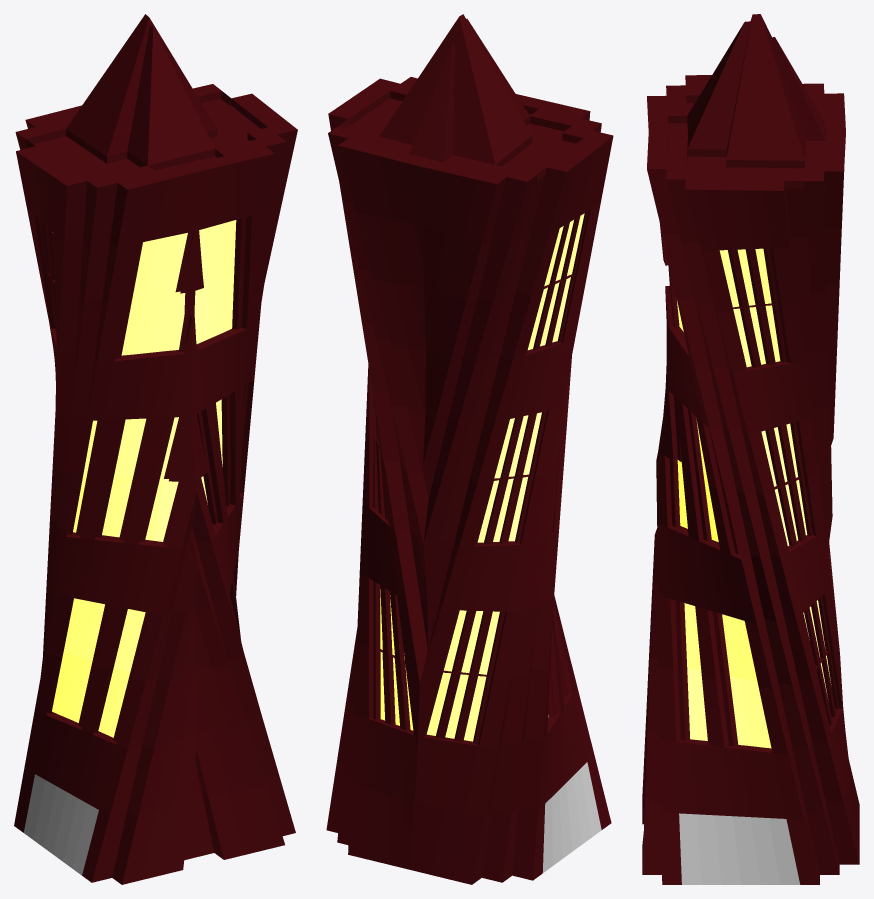
Rendered from westside_tower.fbx.
3 views of the same model, side by side, from view 1: azimuth 30°, elevation 25°; view 2: azimuth 150°, elevation 25°; view 3: azimuth 270°, elevation 25° (orthographic).
Visible parts, largest first — view 1: Plane.013; view 2: Plane.013; view 3: Plane.013.
Boxes of the visible parts, box(x1,y1,x2,y2) form: Plane.013: box(14, 14, 297, 884); Plane.013: box(326, 14, 613, 884); Plane.013: box(642, 14, 859, 884).
Bounding box in the file's own units: 584 × 1910 × 458.
